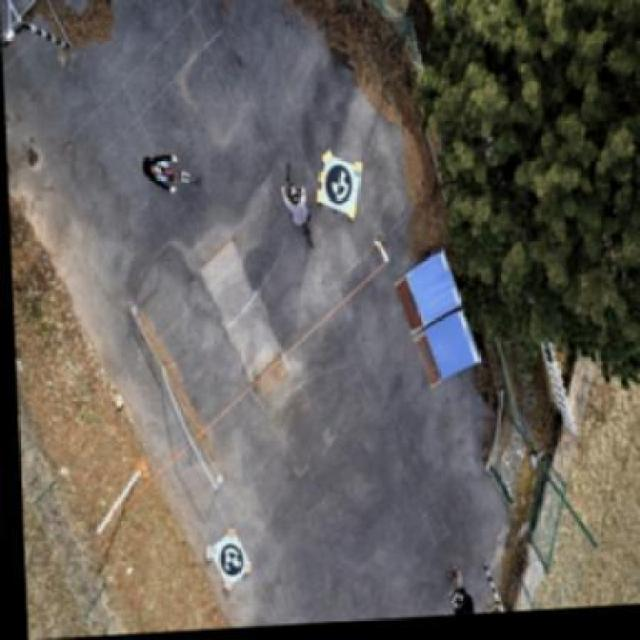Person: (132, 148, 182, 203), (432, 566, 478, 620), (271, 183, 309, 239)
